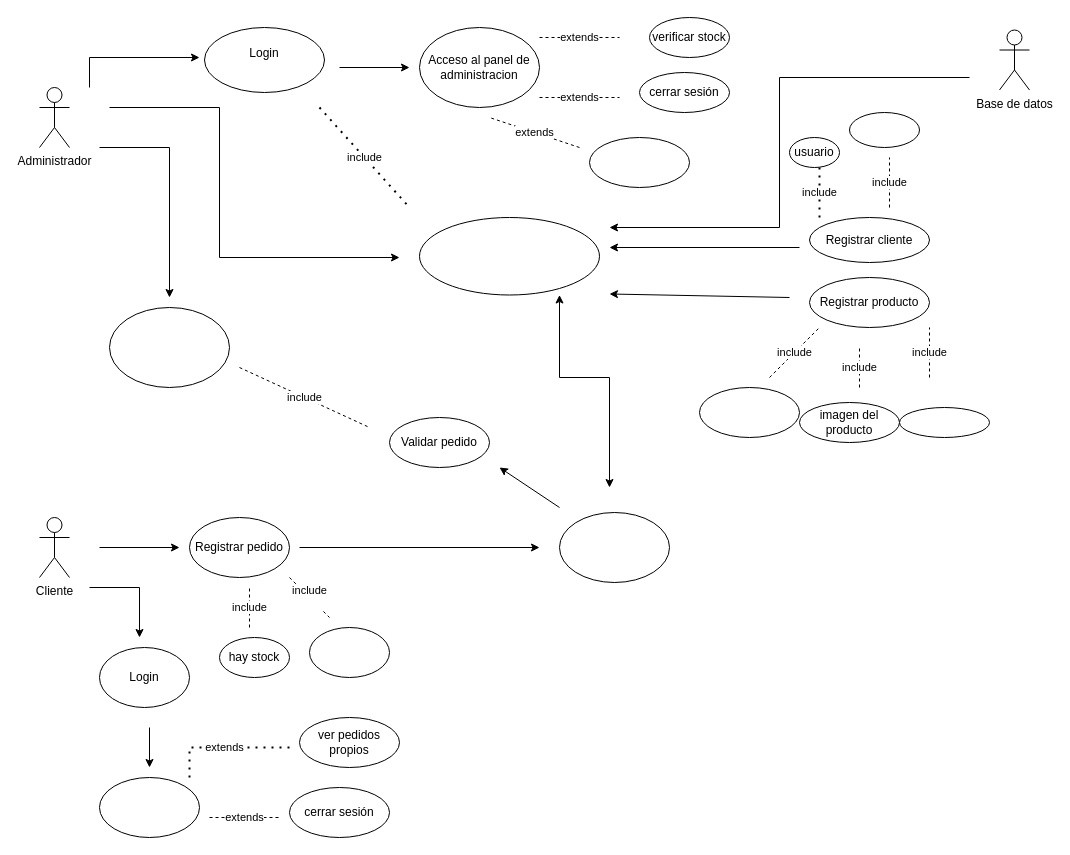
The diagram is 1070 pixels wide and 855 high, and some of its shapes have lost their labels. Here are the shapes that lost their labels. From the top down, the centre of each, then its label:
At (x=884, y=130): "contraseña".
At (x=639, y=162): "ver pedidos".
At (x=509, y=255): "Registrar entrada".
At (x=169, y=347): "Iniciar orden".
At (x=749, y=412): "nombe de producto".
At (x=944, y=422): "cantidad".
At (x=614, y=547): "Verificar pedido".
At (x=349, y=652): "indicar cantidad".
At (x=149, y=807): "Acceso al panel de cliente".
